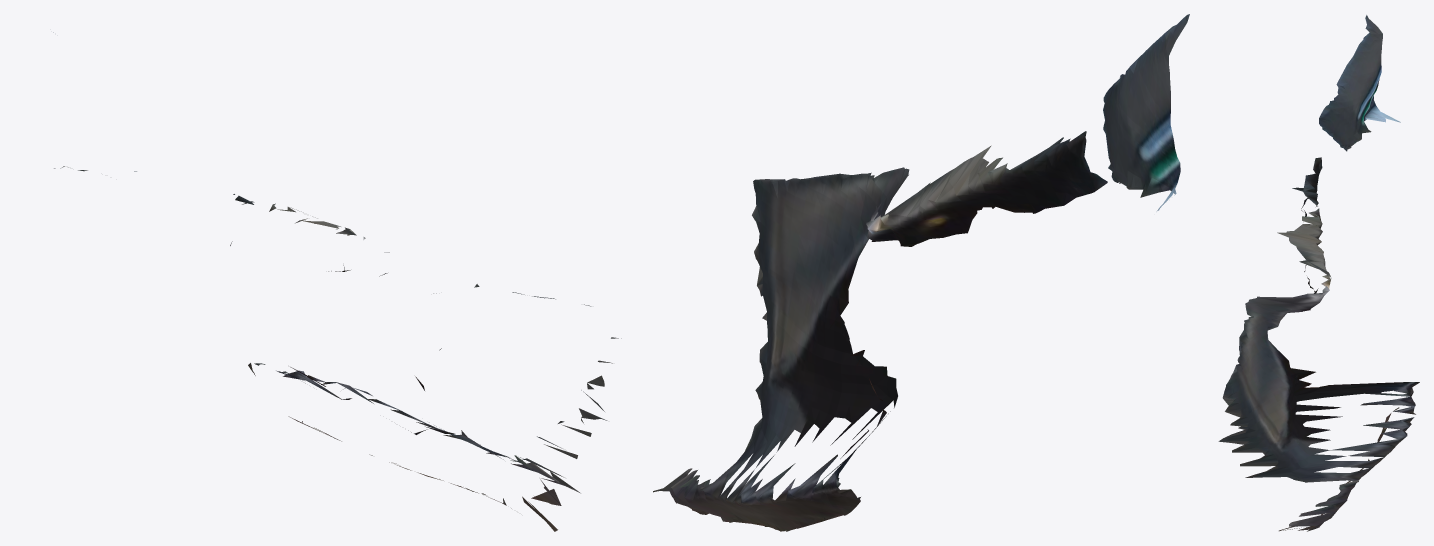
Rendered from observed-surface.glb.
3 views of the same model, side by side, from view 1: azimuth 30°, elevation 25°; view 2: azimuth 150°, elevation 25°; view 3: azimuth 270°, elevation 25° (orthographic). The views are drawn at different scales.
Parts seen in each view (by area): view 1: geometry_0; view 2: geometry_0; view 3: geometry_0.
Part boxes in pixels (box(x1,y1,x2,y2)): geometry_0: box(53, 32, 621, 531); geometry_0: box(653, 14, 1189, 531); geometry_0: box(1218, 15, 1419, 531).
Size of the model in its own units: 0.4961 by 0.555 by 0.2717.
1 material, 1 textured.
